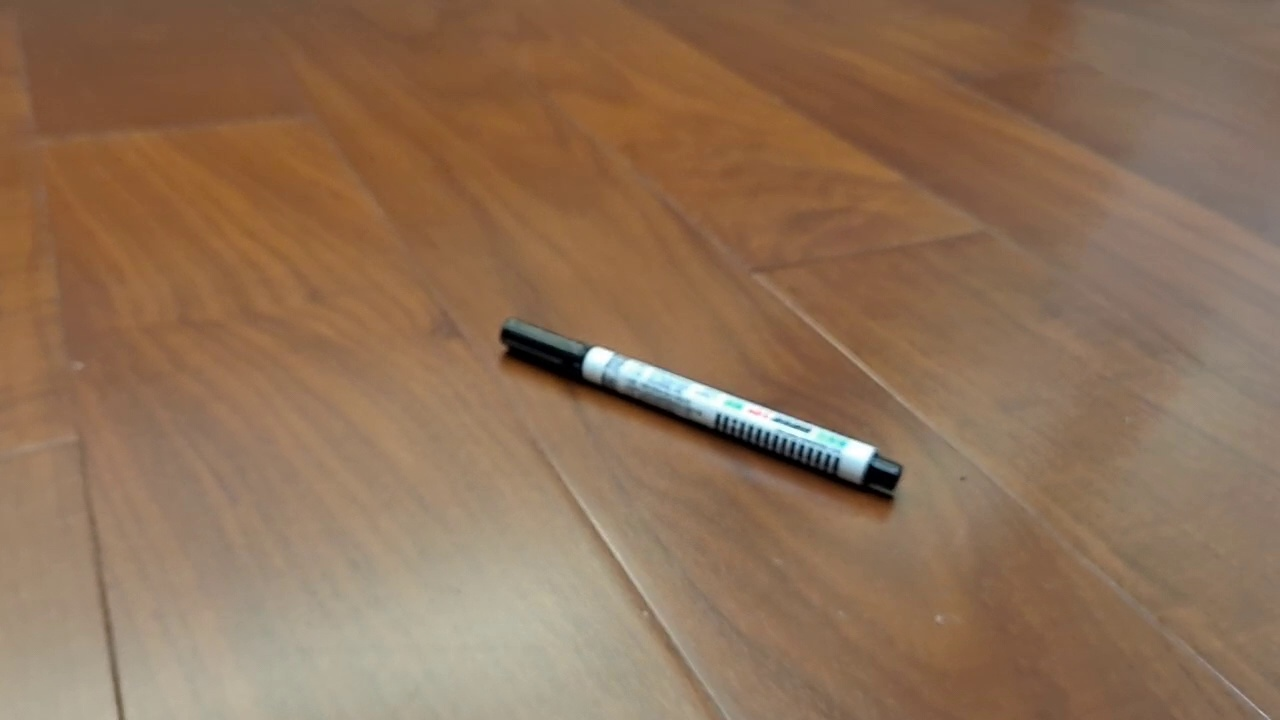pen: (499, 315, 904, 492)
